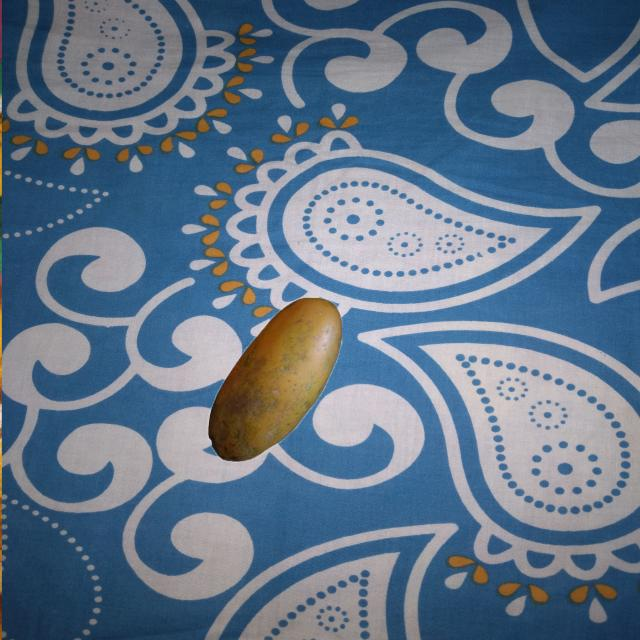Pepaya rippen: (200, 297, 342, 465)
